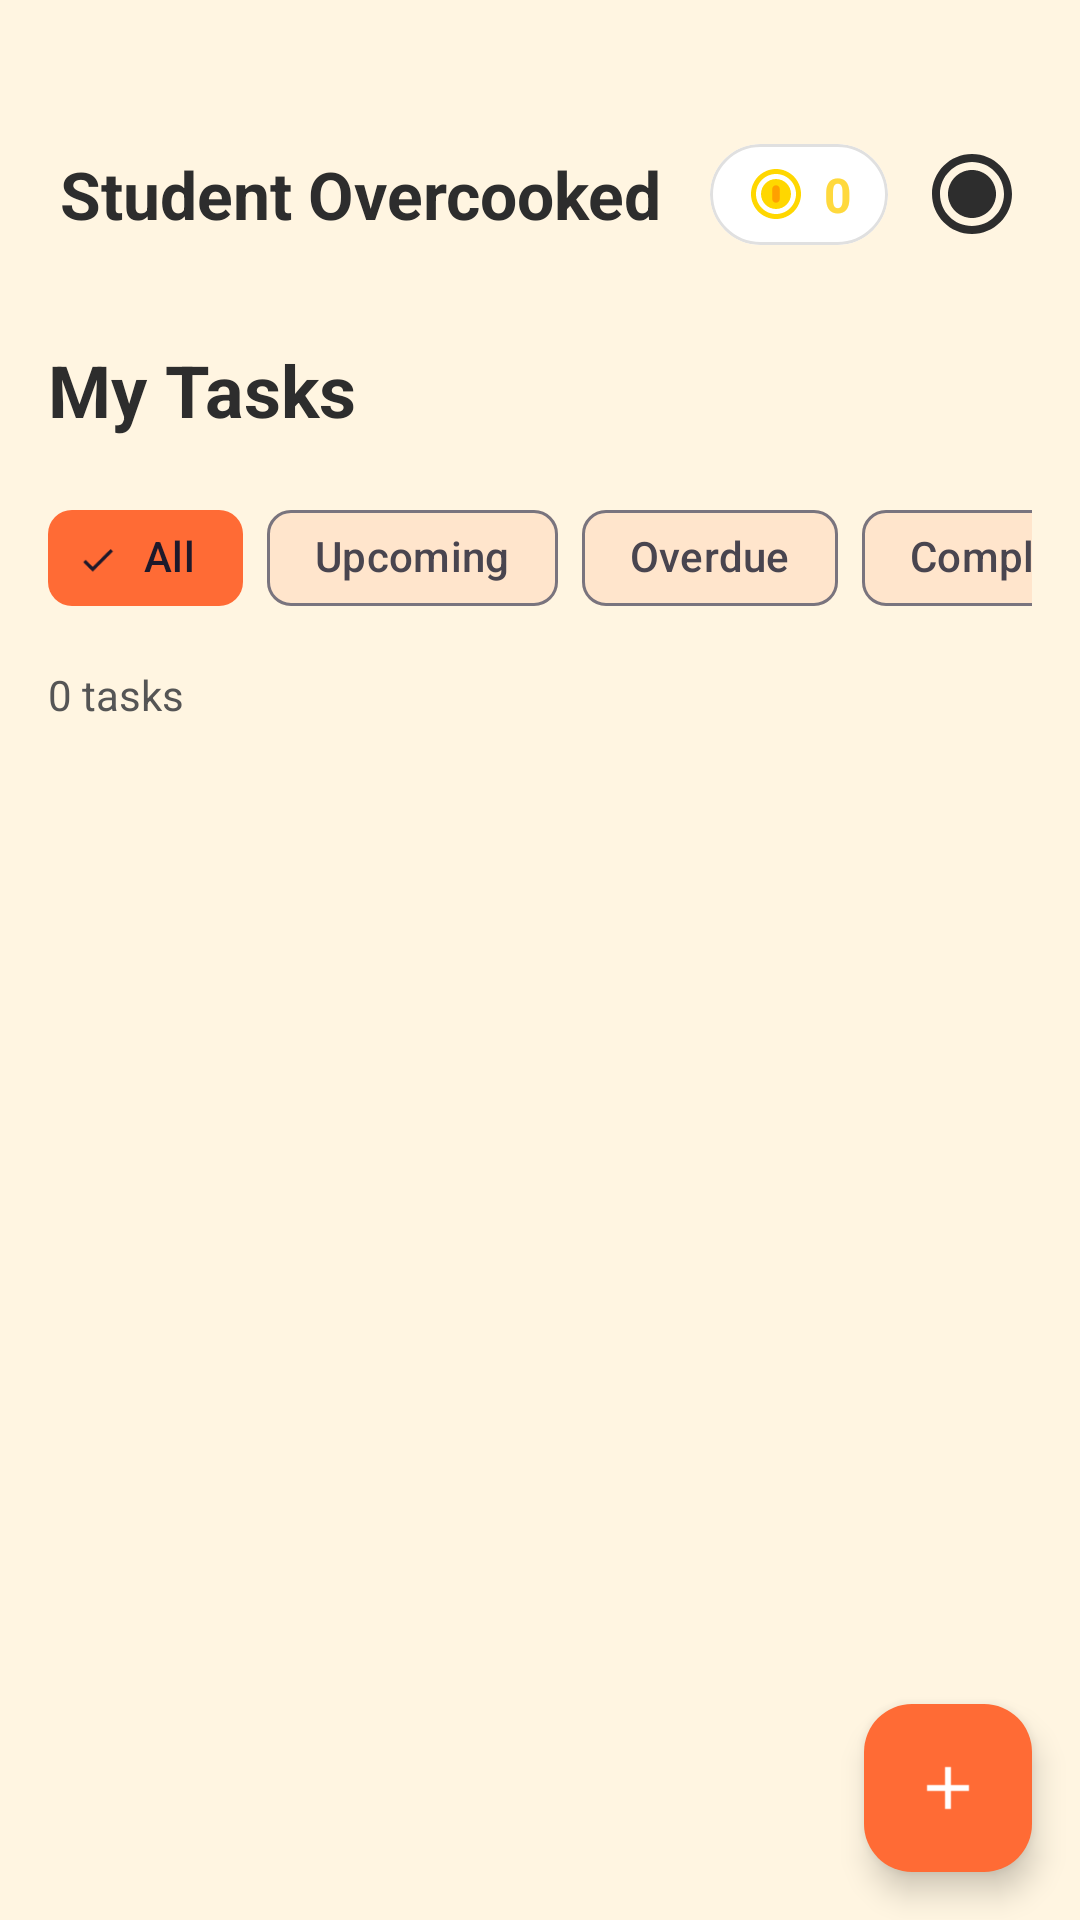

Icons on this 1080px x 1920px Android screen, each with the point to tap as point (x, y):
Add task: point (948, 1788)
Coins: point (776, 194)
